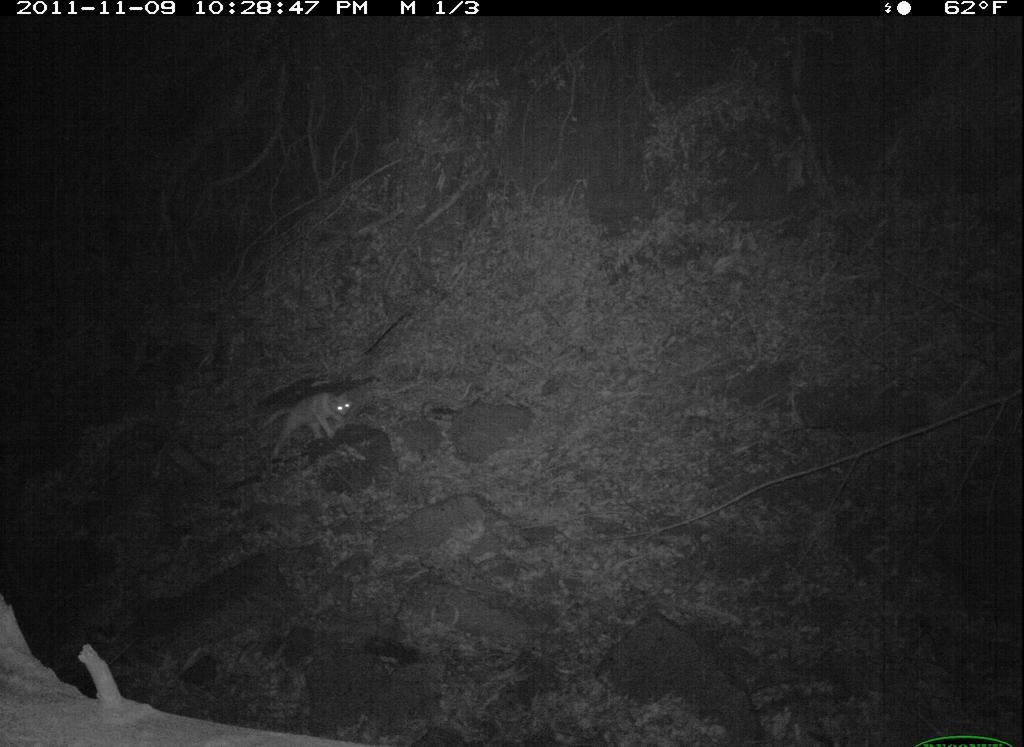cat: (257, 387, 354, 463)
